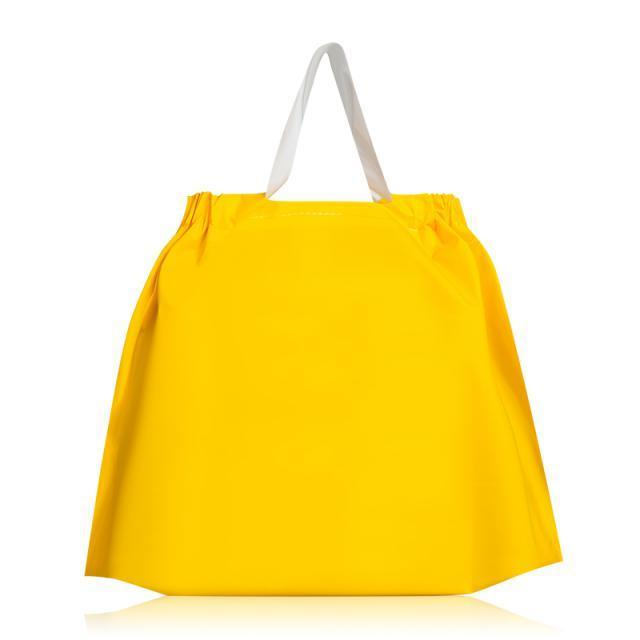waste: (92, 42, 564, 598)
